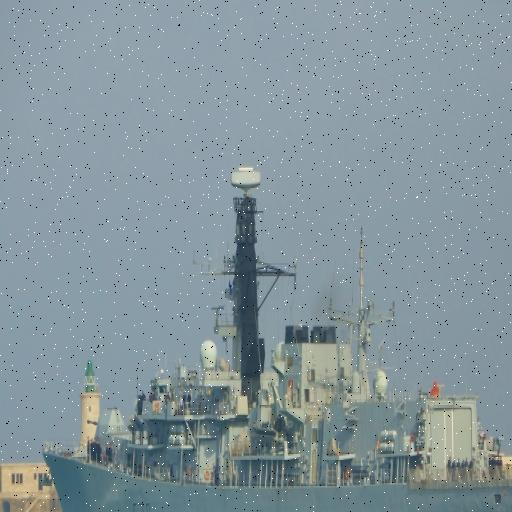Fragata: (43, 166, 512, 512)
